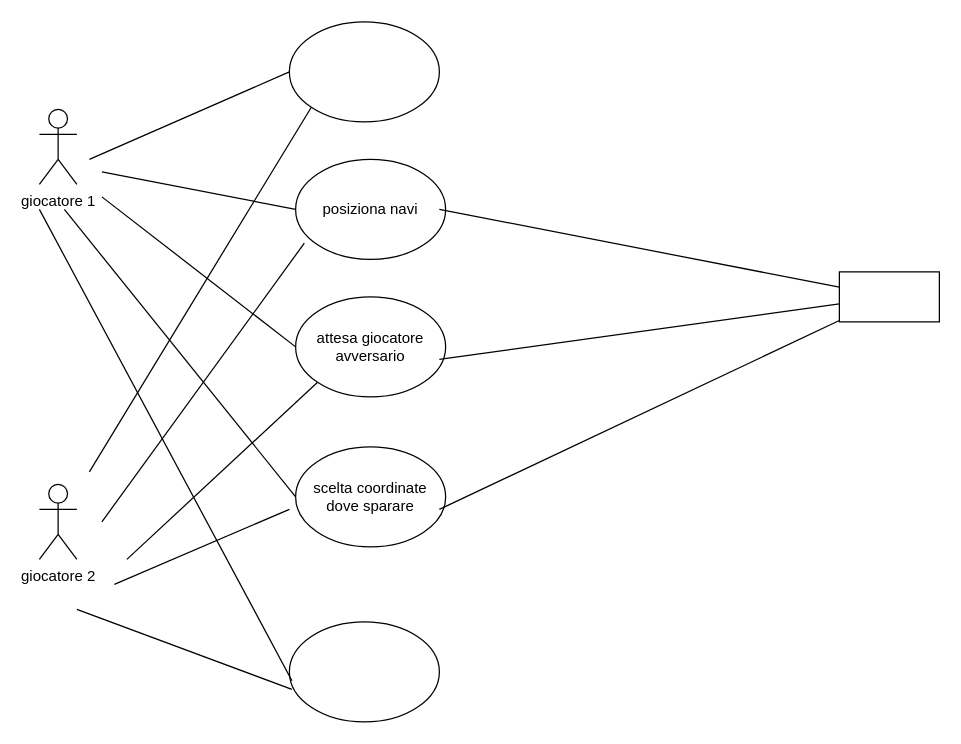
Image size: 961x744. Some labels were removed from this diagram. The shapes that lost their labels are listed below. From the top down, each one's centre as x and y in pixels, then its label:
At [363,71]: "scelta nome e scermate iniziali".
At [888,296]: "server".
At [363,671]: "schermata di fine gioco".
